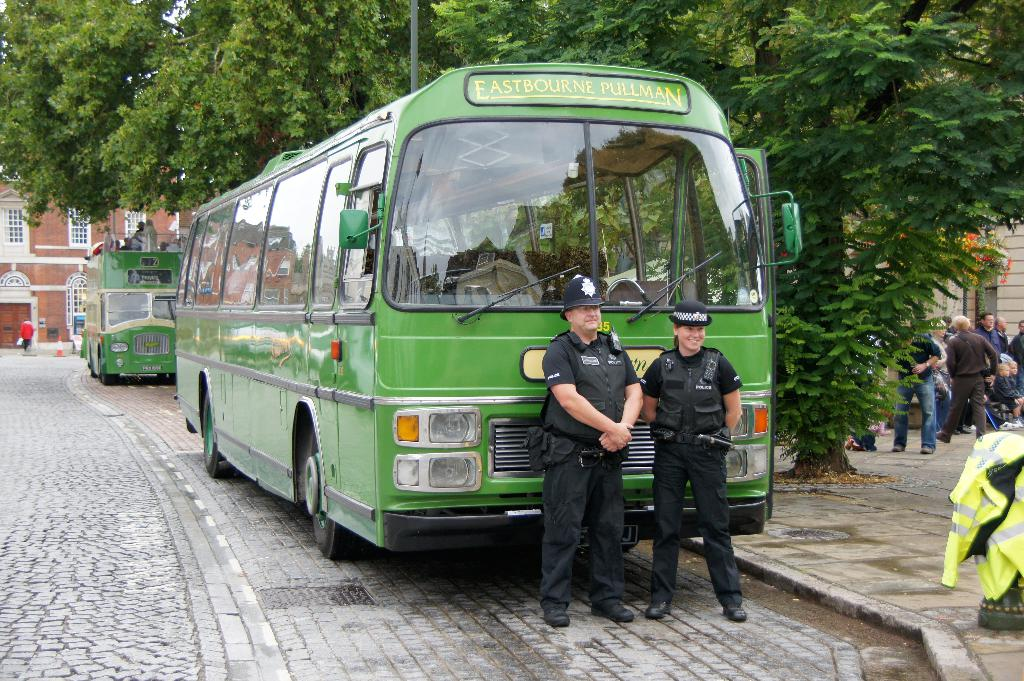Bus: (177, 56, 805, 555), (81, 230, 186, 387)
